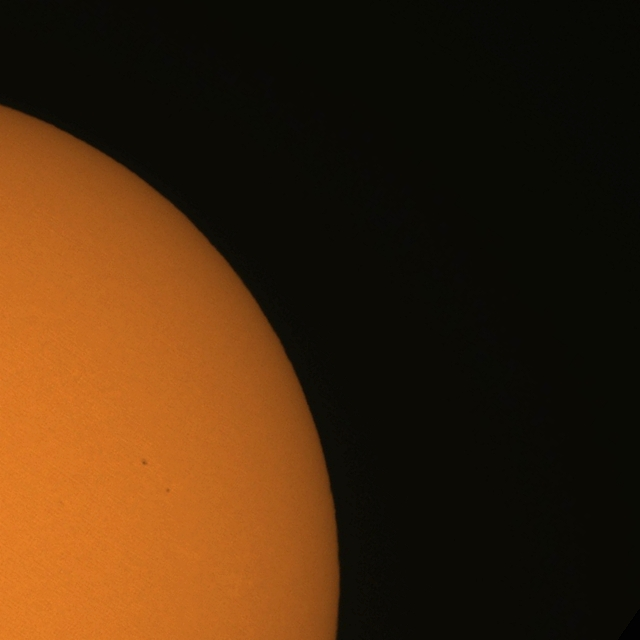sunspot: (141, 457, 149, 467), (165, 487, 172, 494)
